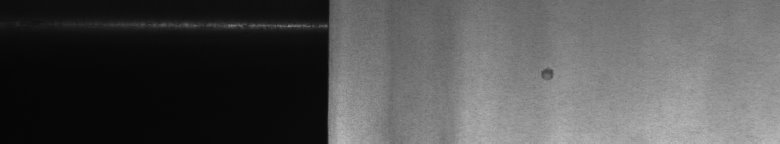fi: (534, 61, 559, 88)
